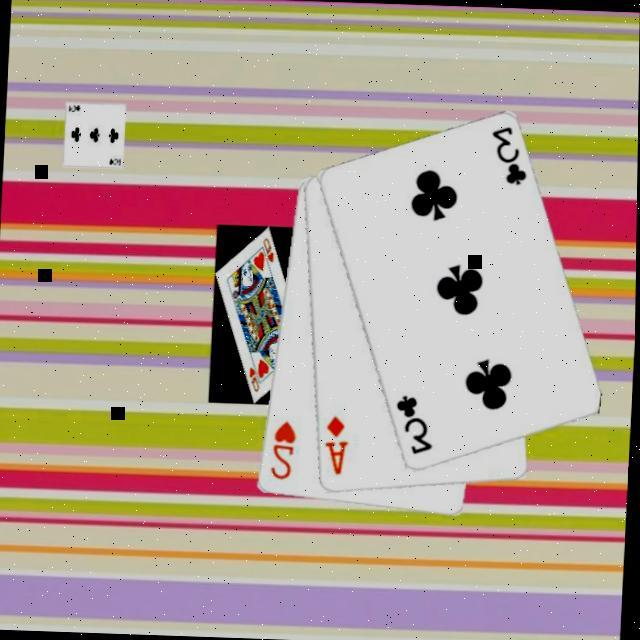2H: (266, 416, 299, 482)
3C: (391, 390, 438, 456), (485, 120, 531, 186)
AD: (320, 411, 351, 476)
